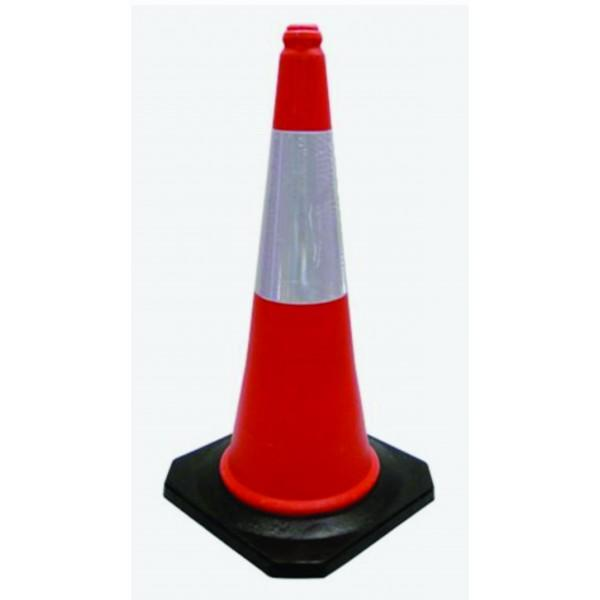traffic_cone: (163, 22, 435, 579)
